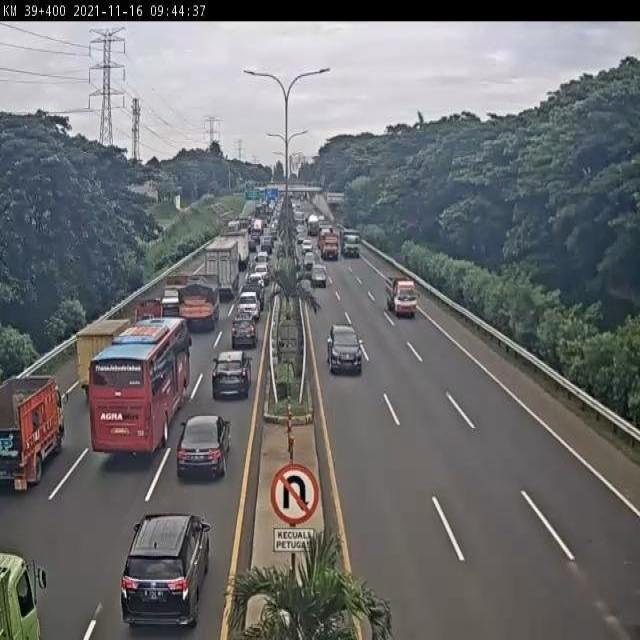Bus: (86, 312, 194, 460)
Car: (120, 513, 210, 629), (175, 414, 230, 478), (211, 350, 253, 399), (326, 323, 363, 376), (230, 314, 259, 350), (238, 289, 262, 320), (242, 284, 264, 308), (310, 264, 328, 288), (247, 272, 265, 287), (303, 251, 315, 272), (254, 264, 271, 276), (302, 239, 312, 253)
Truck: (0, 373, 70, 495), (75, 315, 132, 396), (0, 547, 49, 640), (177, 272, 220, 332), (202, 238, 242, 301), (385, 275, 417, 318), (222, 228, 251, 269), (160, 274, 189, 314), (133, 297, 163, 322), (338, 228, 362, 258), (318, 232, 340, 262), (306, 213, 319, 235)
